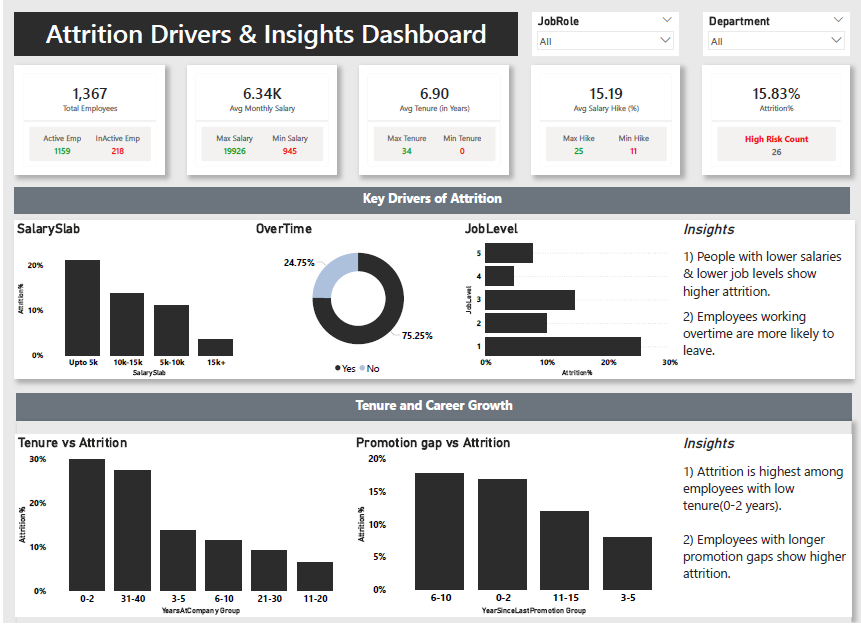

Layout of this report page (visuals, bound fields, positions):
{"tool":"powerbi","page":{"name":"Attrition Drivers & Insights","canvas":[1800,1300],"ordinal":1},"visuals":[{"type":"cardVisual","fields":{"Data":["Count(HR_attrition.EmpID)"]},"box":[24,136,312,228],"z":0},{"type":"cardVisual","fields":{"Data":["Avg(HR_attrition.MonthlyIncome)"]},"box":[384,136,312,228],"z":1000},{"type":"cardVisual","fields":{"Data":["Avg(HR_attrition.YearsAtCompany)"]},"box":[744,136,312,228],"z":2000},{"type":"cardVisual","fields":{"Data":["Avg(HR_attrition.PercentSalaryHike)"]},"box":[1104,136,310,228],"z":3000},{"type":"cardVisual","fields":{"Data":["HR_attrition.Attrition%"]},"box":[1462,136,306,228],"z":4000},{"type":"textbox","box":[24,390,1744,56],"z":5000},{"type":"shape","box":[24,460,1744,330],"z":6000},{"type":"columnChart","title":"SalarySlab","fields":{"Y":["HR_attrition.Attrition%"],"Category":["HR_attrition.SalarySlab"]},"box":[24,460,500,330],"z":7000},{"type":"donutChart","title":"OverTime","fields":{"Y":["HR_attrition.Attrition%"],"Category":["HR_attrition.OverTime"]},"box":[523.3,460.3,436.8,329.8],"z":8000},{"type":"barChart","title":"JobLevel","fields":{"Y":["HR_attrition.Attrition%"],"Category":["HR_attrition.JobLevel"]},"box":[960,460,455,330],"z":9000},{"type":"textbox","box":[28,822,1744,56],"z":10000},{"type":"shape","box":[27.5,877.5,1745,422.5],"z":11000},{"type":"columnChart","title":"Tenure vs Attrition","fields":{"Category":["HR_attrition.YearsAtCompany Group"],"Y":["HR_attrition.Attrition%"]},"box":[25,907.5,707.5,380],"z":12000},{"type":"columnChart","title":"Promotion gap vs Attrition","fields":{"Y":["HR_attrition.Attrition%"],"Category":["HR_attrition.YearSinceLastPromotion Group"]},"box":[732.5,907.5,682.5,380],"z":13000},{"type":"shape","box":[22.5,25,1052.5,90],"z":14000},{"type":"textbox","box":[22.5,25,1052.5,90],"z":15000},{"type":"slicer","fields":{"Values":["HR_attrition.Department"]},"box":[1462.5,25,305,90],"z":16000},{"type":"slicer","fields":{"Values":["HR_attrition.JobRole"]},"box":[1105,25,305,90],"z":17000},{"type":"textbox","title":"Insights","box":[1415,907.5,357.5,380],"z":18000},{"type":"textbox","title":"Insights","box":[1415,460,362.5,330],"z":19000}]}

Visuals, with their boxes in screenshot pixels (x1, y1, x2, y2), scaled from the page's 1800x1300 canvas onto the 861x628 screenshot:
cardVisual - Count(HR_attrition.EmpID): (11,66,161,176)
cardVisual - Avg(HR_attrition.MonthlyIncome): (184,66,333,176)
cardVisual - Avg(HR_attrition.YearsAtCompany): (356,66,505,176)
cardVisual - Avg(HR_attrition.PercentSalaryHike): (528,66,676,176)
cardVisual - HR_attrition.Attrition%: (699,66,846,176)
textbox: (11,188,846,215)
shape: (11,222,846,382)
"SalarySlab" columnChart: (11,222,251,382)
"OverTime" donutChart: (250,222,459,382)
"JobLevel" barChart: (459,222,677,382)
textbox: (13,397,848,424)
shape: (13,424,848,627)
"Tenure vs Attrition" columnChart: (12,438,350,622)
"Promotion gap vs Attrition" columnChart: (350,438,677,622)
shape: (11,12,514,56)
textbox: (11,12,514,56)
slicer - HR_attrition.Department: (700,12,845,56)
slicer - HR_attrition.JobRole: (529,12,674,56)
"Insights" textbox: (677,438,848,622)
"Insights" textbox: (677,222,850,382)
